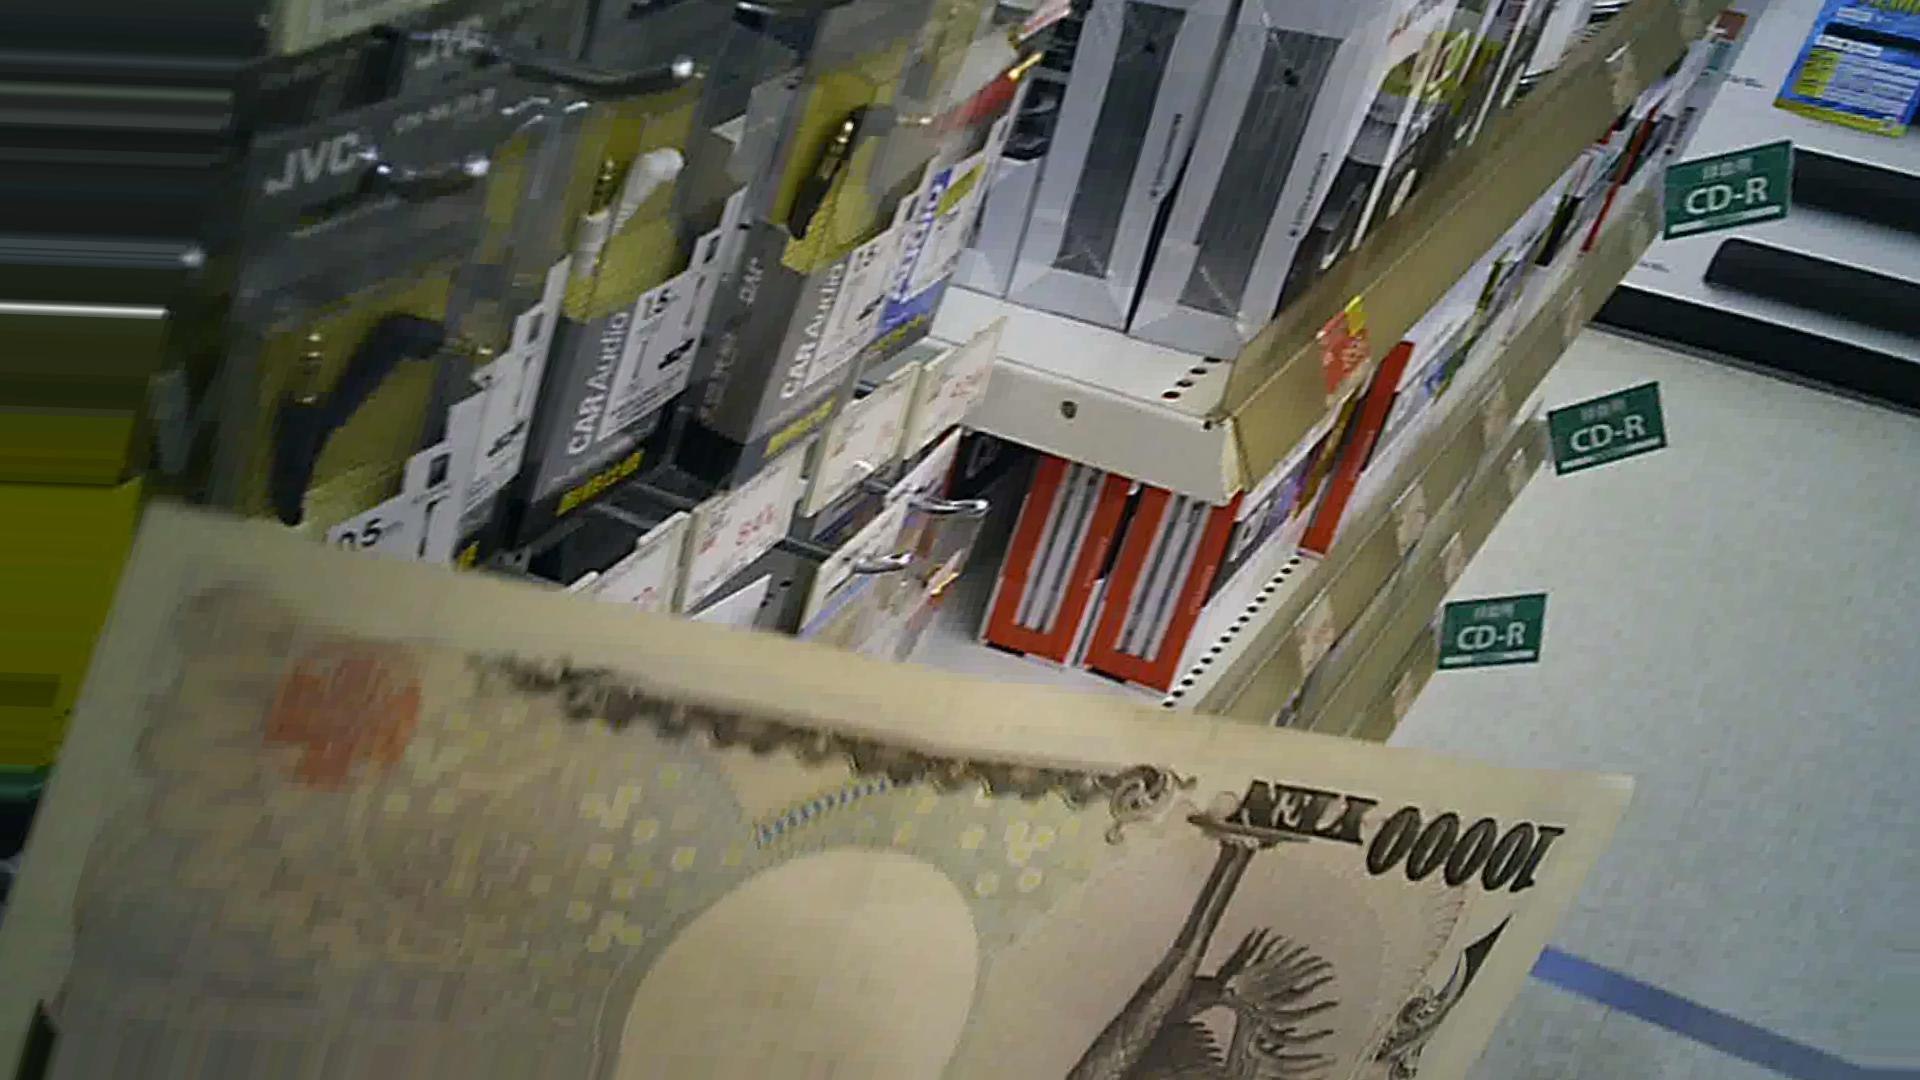10,000 Yen: (83, 498, 1619, 1079)
